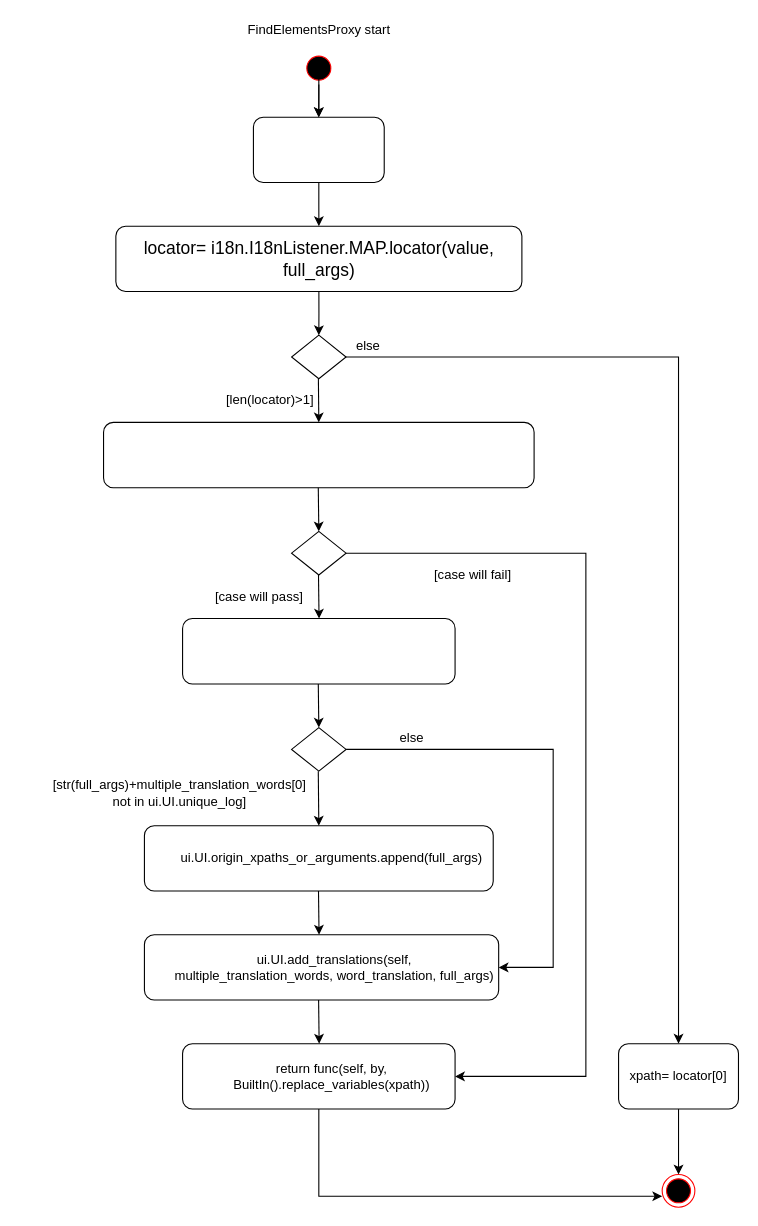
This 758x1226 diagram has some shape labels left out. The centre of each missing label's shape, as x and y in pixels:
"FindElementsProxy.show_warning(value, multi_trans_words, full_args)" belongs at point 318,454.
"full_args = [value]" belongs at point 318,149.
"i18n.I18nListener.Is_Multi_Trans=True" belongs at point 318,650.
